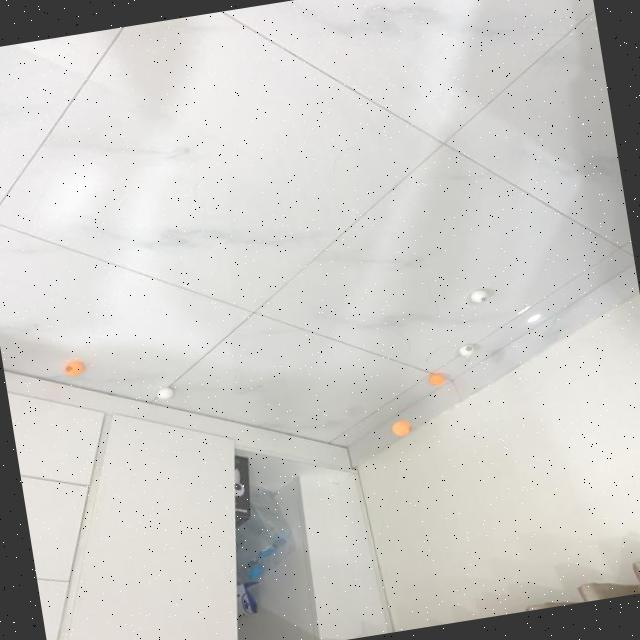ping-pong-ball: (62, 358, 87, 379), (392, 418, 412, 438), (471, 287, 492, 306), (426, 370, 446, 389), (457, 342, 478, 358), (155, 386, 175, 402)
